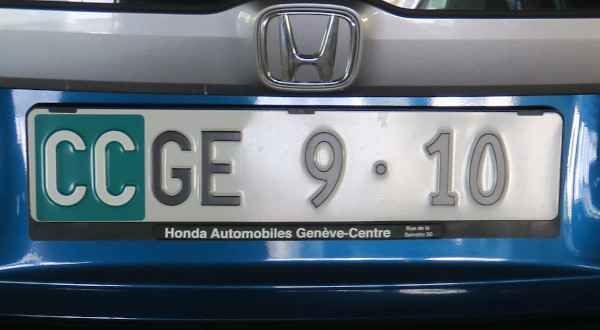license_plate: (26, 106, 563, 222)
